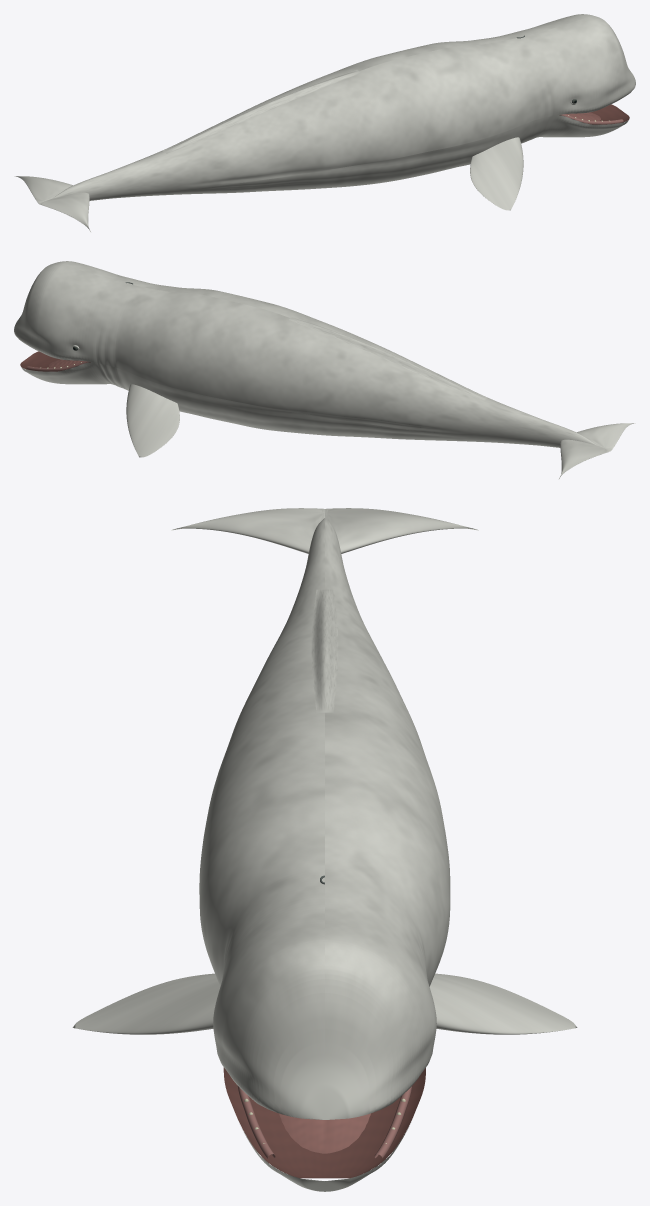
File: beluga-open-mouth-v0659.glb
3 renders of one model, top to bottom at view 1: azimuth 30°, elevation 25°; view 2: azimuth 150°, elevation 25°; view 3: azimuth 270°, elevation 25°, orthographic. The views are drawn at different scales.
Visible parts, largest first — view 1: Resculpted CC0 beluga adult exterior, Broad rounded pectoral flipper 1, Low tough dorsal ridge without a dorsal fin, Horizontal low-aspect-ratio fluke 1, Horizontal low-aspect-ratio fluke -1, Lower oral floor; view 2: Resculpted CC0 beluga adult exterior, Broad rounded pectoral flipper -1, Low tough dorsal ridge without a dorsal fin, Horizontal low-aspect-ratio fluke -1, Horizontal low-aspect-ratio fluke 1, Lower oral floor; view 3: Resculpted CC0 beluga adult exterior, Lower oral floor, Broad rounded pectoral flipper 1, Broad rounded pectoral flipper -1, Horizontal low-aspect-ratio fluke -1, Horizontal low-aspect-ratio fluke 1, Low tough dorsal ridge without a dorsal fin, Broad mobile tongue surface.
Part boxes in pixels (left/top/right/bottom): Resculpted CC0 beluga adult exterior: left=53, top=14, right=635, bottom=200; Broad rounded pectoral flipper 1: left=470, top=137, right=523, bottom=210; Low tough dorsal ridge without a dorsal fin: left=162, top=70, right=360, bottom=153; Horizontal low-aspect-ratio fluke 1: left=39, top=192, right=90, bottom=231; Horizontal low-aspect-ratio fluke -1: left=14, top=176, right=72, bottom=203; Lower oral floor: left=559, top=104, right=629, bottom=124; Resculpted CC0 beluga adult exterior: left=14, top=261, right=596, bottom=447; Broad rounded pectoral flipper -1: left=126, top=384, right=179, bottom=457; Low tough dorsal ridge without a dorsal fin: left=289, top=317, right=487, bottom=400; Horizontal low-aspect-ratio fluke -1: left=559, top=439, right=610, bottom=478; Horizontal low-aspect-ratio fluke 1: left=577, top=423, right=635, bottom=450; Lower oral floor: left=20, top=351, right=90, bottom=371; Resculpted CC0 beluga adult exterior: left=199, top=518, right=450, bottom=1191; Lower oral floor: left=223, top=1067, right=425, bottom=1178; Broad rounded pectoral flipper 1: left=72, top=973, right=220, bottom=1034; Broad rounded pectoral flipper -1: left=429, top=973, right=577, bottom=1034; Horizontal low-aspect-ratio fluke -1: left=325, top=508, right=478, bottom=553; Horizontal low-aspect-ratio fluke 1: left=171, top=508, right=324, bottom=553; Low tough dorsal ridge without a dorsal fin: left=311, top=589, right=338, bottom=712; Broad mobile tongue surface: left=279, top=1113, right=370, bottom=1153.
Bounding box in the file's own units: 3.98 × 0.7779 × 1.47.
Materials: 47 (2 with a texture image).
